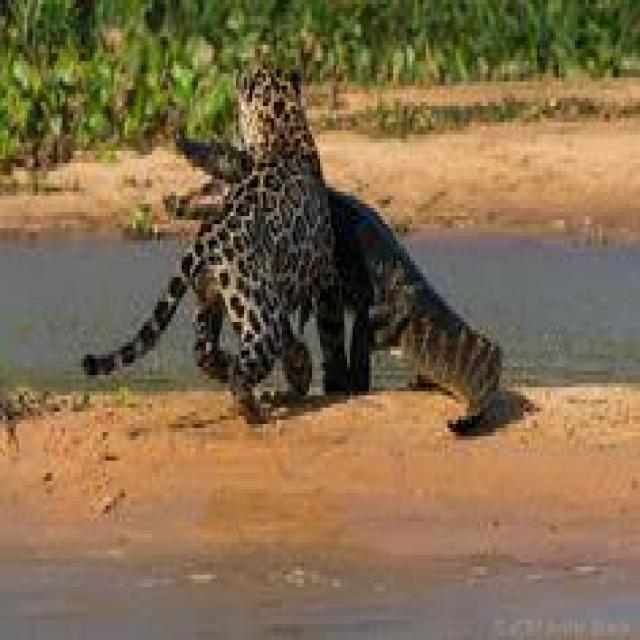Jaguar: (79, 61, 339, 428)
